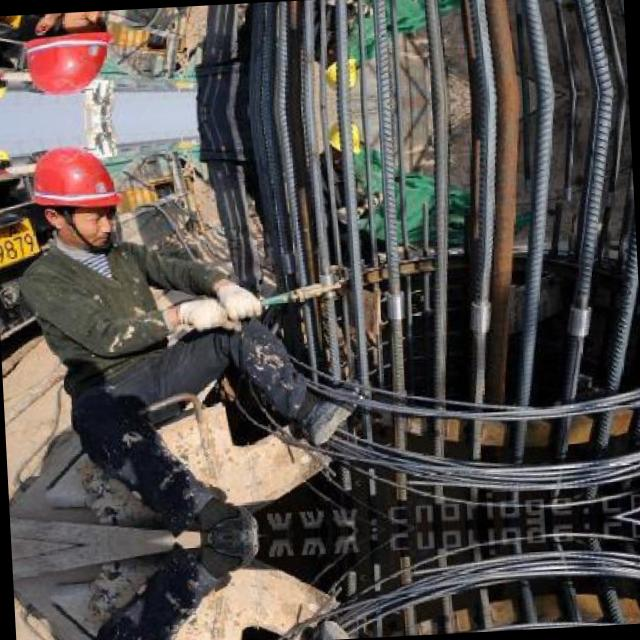helmet: (22, 139, 126, 252), (16, 10, 120, 100), (314, 43, 362, 96), (318, 114, 365, 166)
